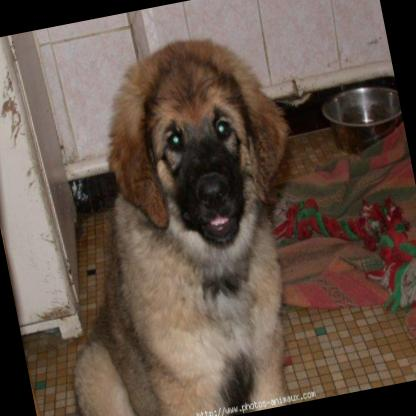Leonberg: (8, 19, 337, 416)
